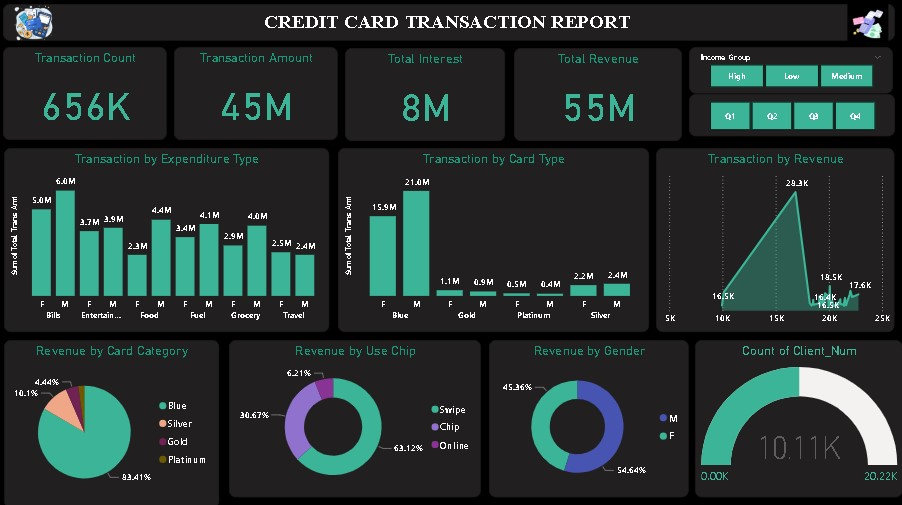

This screenshot's page, from the dashboard's own definition file:
{"tool":"powerbi","page":{"name":"Credit Card Transaction","canvas":[1280,720],"ordinal":0},"visuals":[{"type":"textbox","box":[5.7,5.7,1264.3,52.4],"z":0},{"type":"clusteredColumnChart","title":"Transaction by Expenditure Type","fields":{"Category":["credit_card_db cc_detail.Exp_Type","credit_card_db cust_detail.Gender"],"Y":["Sum(credit_card.Total_Trans_Amt)"]},"box":[7.2,210.2,460.7,260.6],"z":2000},{"type":"donutChart","title":"Revenue by Use Chip","fields":{"Y":["Sum(credit_card_db cc_detail.Revenue)"],"Category":["credit_card_db cc_detail.Use_Chip"]},"box":[326,481.9,357.2,222.5],"z":3000},{"type":"pieChart","title":"Revenue by Card Category ","fields":{"Y":["Sum(credit_card_db cc_detail.Revenue)"],"Category":["credit_card_db cc_detail.Card_Category"]},"box":[7.1,481.9,304.7,238.1],"z":4000},{"type":"donutChart","title":"Revenue by Gender","fields":{"Category":["credit_card_db cust_detail.Gender"],"Y":["Sum(credit_card_db cc_detail.Revenue)"]},"box":[694.5,481.9,283.5,222.5],"z":5000},{"type":"areaChart","title":"Transaction by Revenue","fields":{"Category":["credit_card.Revenue"],"Y":["Sum(credit_card.Total_Trans_Amt)"]},"box":[931.6,210.2,338.4,260.6],"z":7000},{"type":"card","title":"Total Revenue","fields":{"Values":["Sum(credit_card.Revenue)"]},"box":[730,67.7,237.6,132.5],"z":9000},{"type":"card","title":"Transaction Amount","fields":{"Values":["Sum(credit_card_db cc_detail.Total_Trans_Amt)"]},"box":[248,66.6,232.4,131.8],"z":10000},{"type":"card","title":"Transaction Count","fields":{"Values":["Sum(credit_card_db cc_detail.Total_Trans_Ct)"]},"box":[5.7,66.6,232.4,131.8],"z":11000},{"type":"card","title":" Total Interest","fields":{"Values":["Sum(credit_card_db cc_detail.Interest_Earned)"]},"box":[491,67.7,227.5,132.5],"z":12000},{"type":"slicer","fields":{"Values":["credit_card_db cc_detail.Qtr"]},"box":[978,133.2,292,59.5],"z":14000},{"type":"slicer","fields":{"Values":["credit_card_db cust_detail.Income_Group"]},"box":[977.6,66.2,289.4,66.2],"z":16000},{"type":"gauge","fields":{"Y":["CountNonNull(credit_card.Client_Num)"]},"box":[986.3,482.3,293.7,223.2],"z":16001},{"type":"clusteredColumnChart","title":"Transaction by Card Type","fields":{"Category":["credit_card.Card_Category","credit_card_db cust_detail.Gender"],"Y":["Sum(credit_card.Total_Trans_Amt)"]},"box":[480.9,210.2,440.6,260.6],"z":16002},{"type":"image","box":[1183.5,0,96.5,67.7],"z":16004},{"type":"image","box":[7.2,0,84.9,67.7],"z":16005}]}

Visuals, with their boxes in screenshot pixels (x1, y1, x2, y2), scaled from the page's 1280x720 canvas onto the 902x505 screenshot:
textbox: l=4, t=4, r=895, b=41
"Transaction by Expenditure Type" clusteredColumnChart: l=5, t=147, r=330, b=330
"Revenue by Use Chip" donutChart: l=230, t=338, r=481, b=494
"Revenue by Card Category " pieChart: l=5, t=338, r=220, b=504
"Revenue by Gender" donutChart: l=489, t=338, r=689, b=494
"Transaction by Revenue" areaChart: l=656, t=147, r=895, b=330
"Total Revenue" card: l=514, t=47, r=682, b=140
"Transaction Amount" card: l=175, t=47, r=339, b=139
"Transaction Count" card: l=4, t=47, r=168, b=139
" Total Interest" card: l=346, t=47, r=506, b=140
slicer - credit_card_db cc_detail.Qtr: l=689, t=93, r=895, b=135
slicer - credit_card_db cust_detail.Income_Group: l=689, t=46, r=893, b=93
gauge - CountNonNull(credit_card.Client_Num): l=695, t=338, r=901, b=495
"Transaction by Card Type" clusteredColumnChart: l=339, t=147, r=649, b=330
image: l=834, t=0, r=901, b=47
image: l=5, t=0, r=65, b=47
